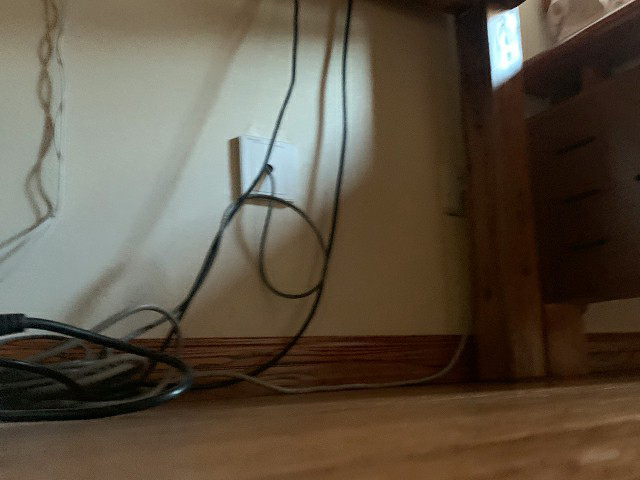wire: (1, 1, 467, 421)
